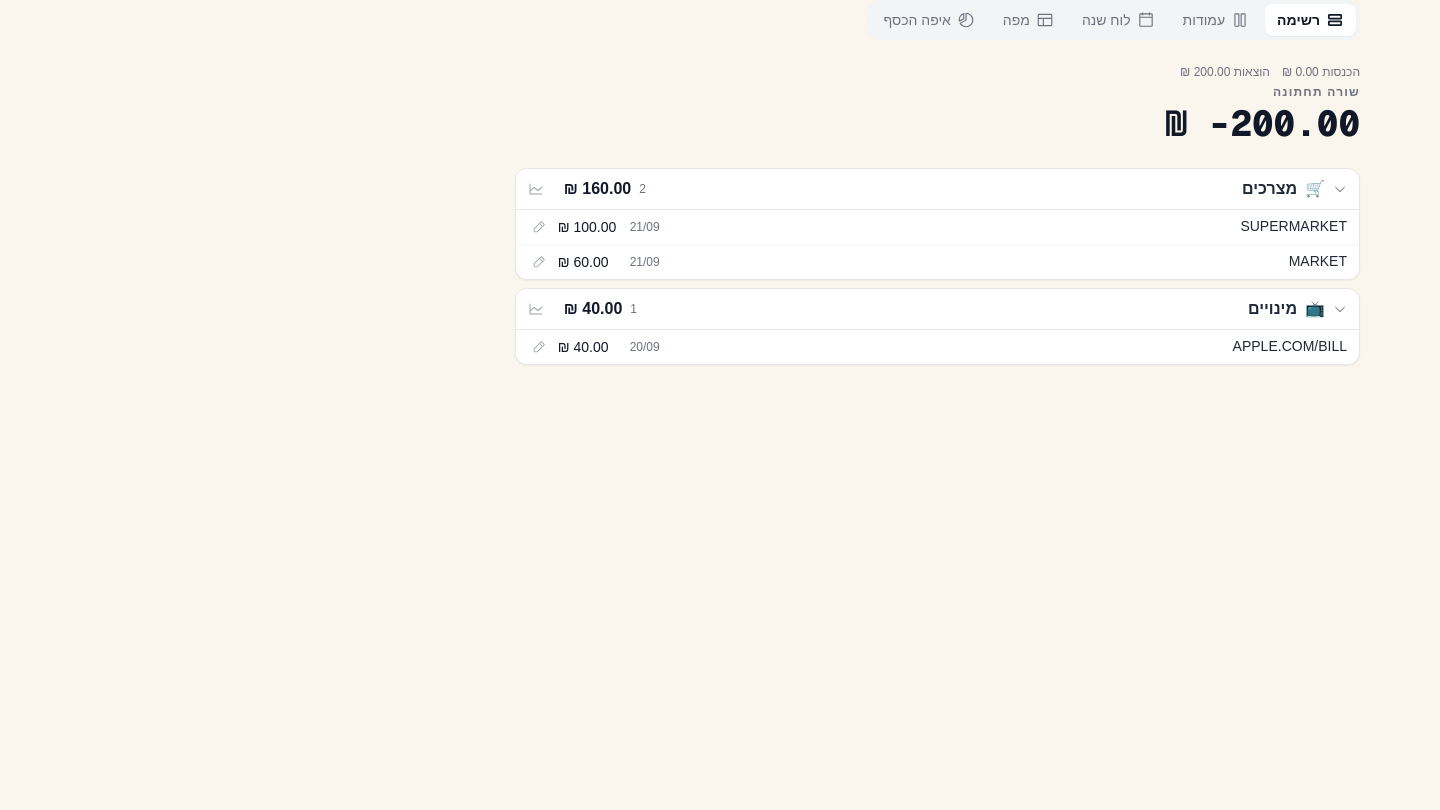
Test: ExpensesExplorer hidden expenses › restores a single row to the list and the total
Click the text "SUPERMARKET".
click(1294, 226)  # box [1240,218,1347,234]
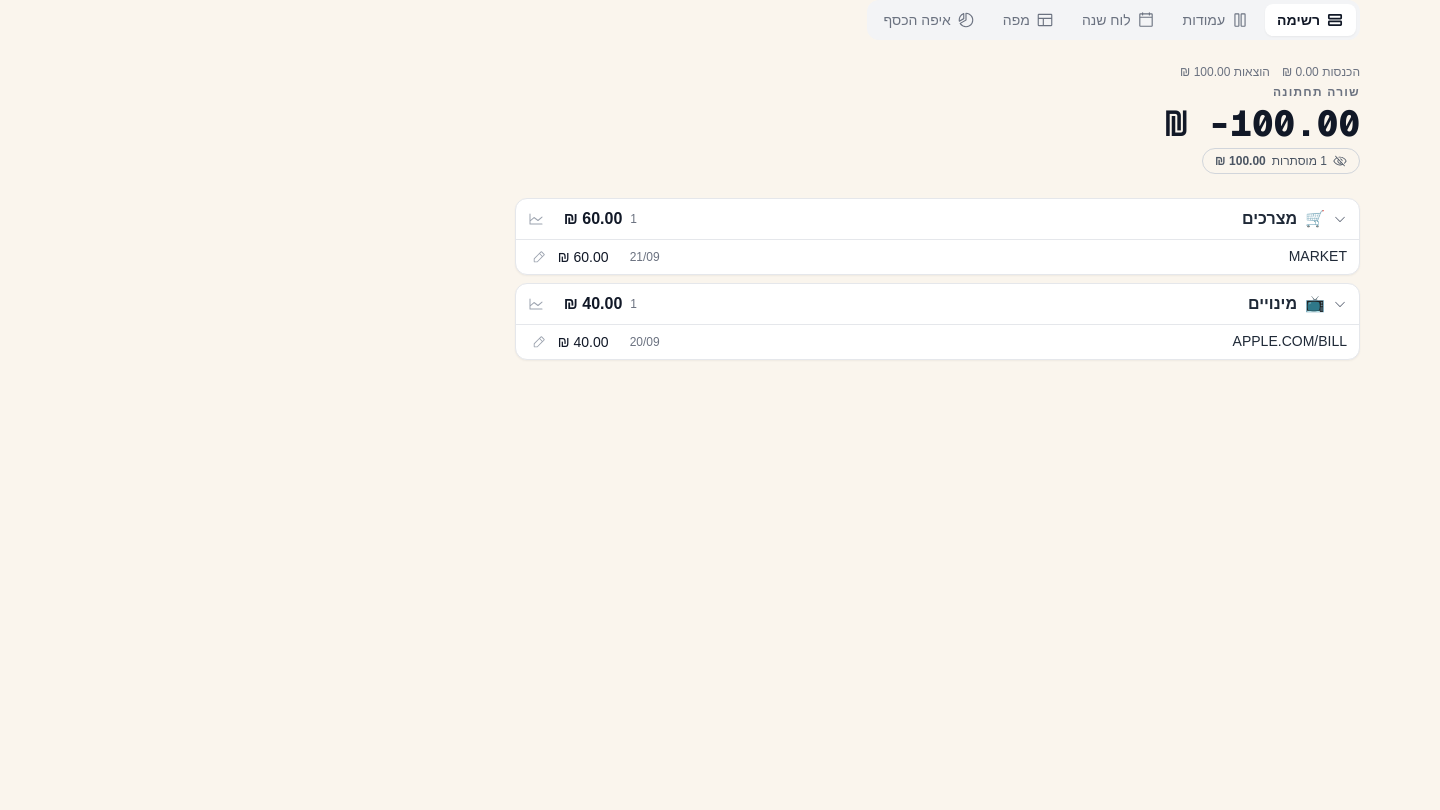
Click the text "APPLE.COM/BILL".
click(1290, 341)  # box [1233,333,1347,349]
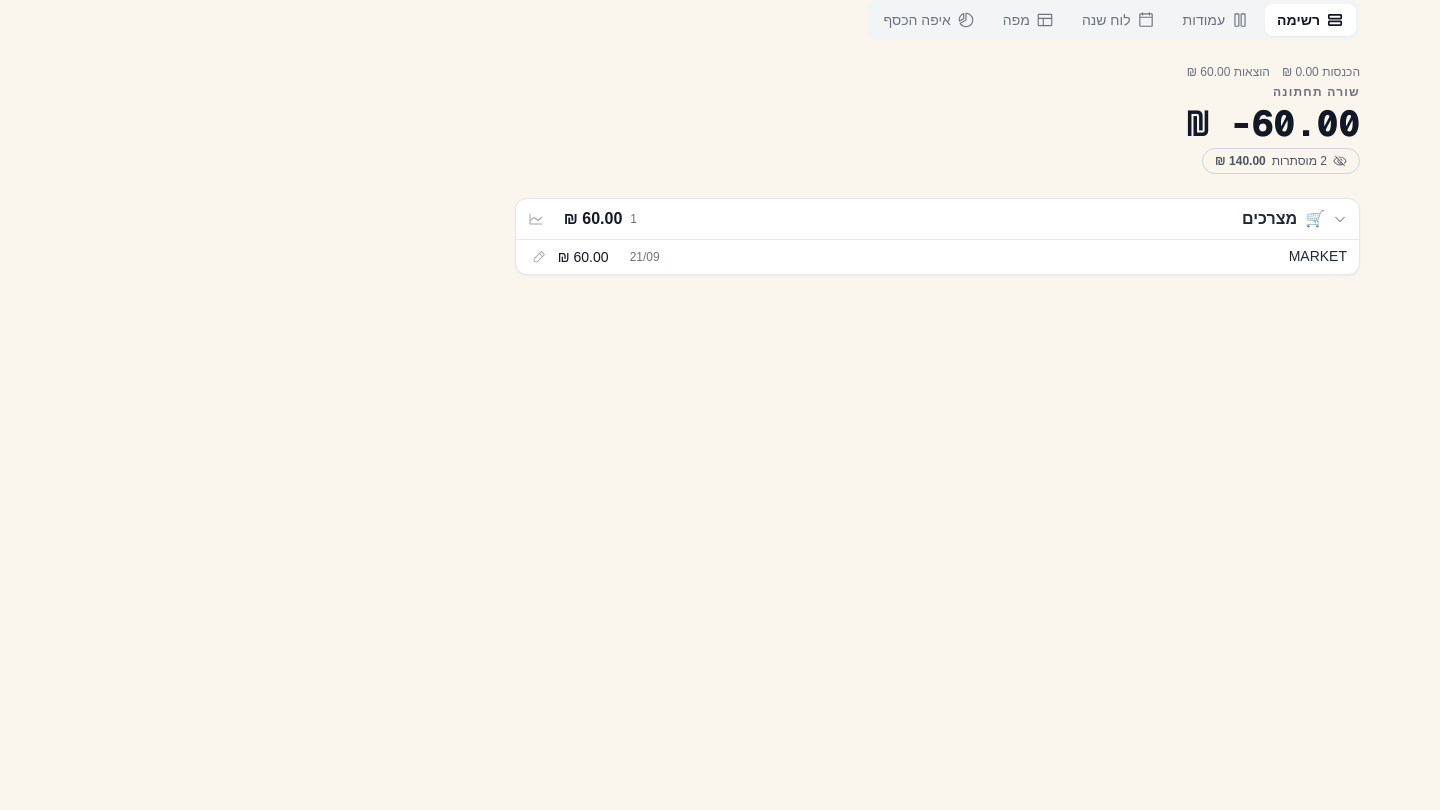
Click the button "2 מוסתרות 140.00 ₪".
click(1281, 161)  # box [1202,148,1360,174]
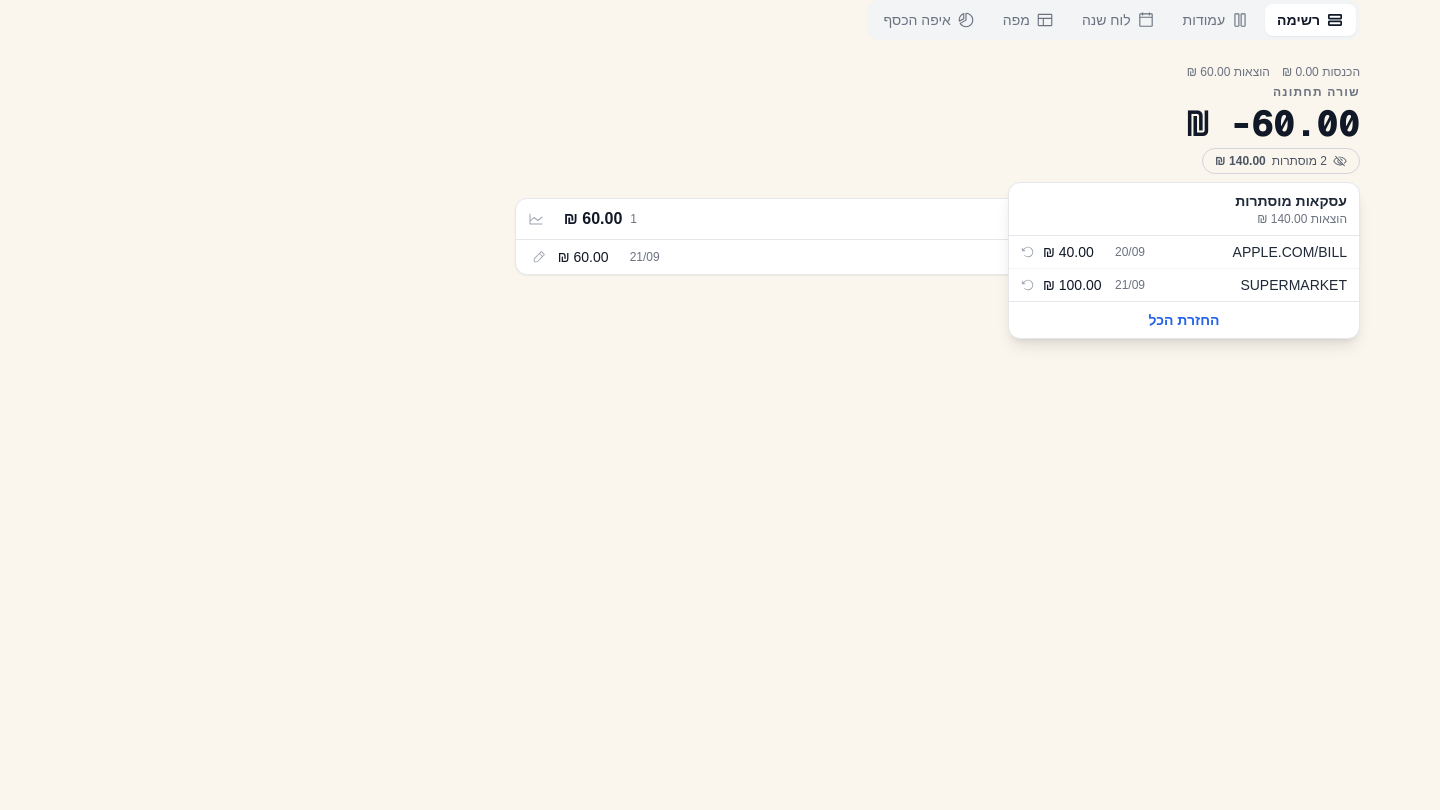
Click the button with aria-label "החזרה SUPERMARKET".
click(1294, 285)  # box [1009,269,1359,301]
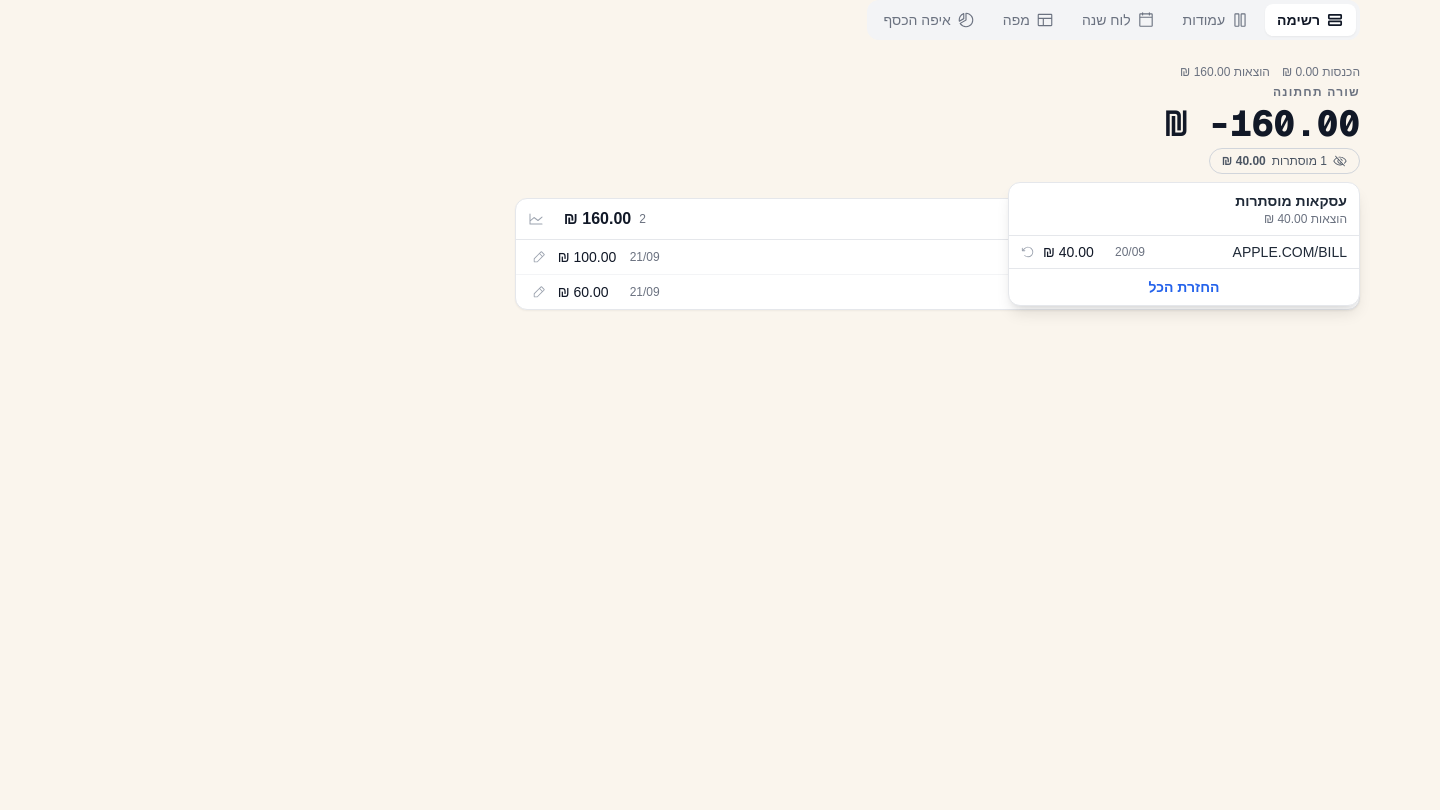
Expected: the text "SUPERMARKET" is shown, [1240,248,1347,264]
Expected: the button "1 מוסתרות 40.00 ₪" is shown, [1209,148,1360,174]
